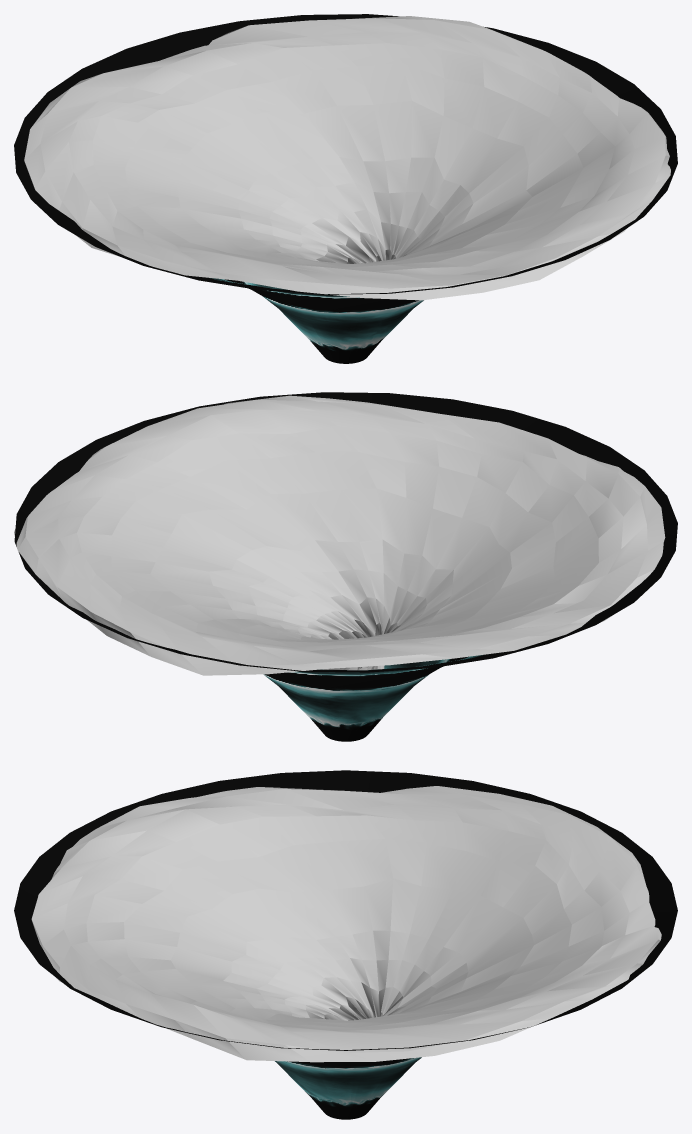
The model's file is fx_xuanwo_water.FBX.
3 views of the same model, one above another, from view 1: azimuth 30°, elevation 25°; view 2: azimuth 150°, elevation 25°; view 3: azimuth 270°, elevation 25° (orthographic).
Parts seen in each view (by area): view 1: fx_xuanwo_water, fx_xuanwo_water1; view 2: fx_xuanwo_water, fx_xuanwo_water1; view 3: fx_xuanwo_water, fx_xuanwo_water1.
Boxes of the visible parts, x1,y1,x2,y2 form: fx_xuanwo_water: (24, 16, 670, 300); fx_xuanwo_water1: (14, 14, 677, 363); fx_xuanwo_water: (14, 395, 665, 675); fx_xuanwo_water1: (14, 392, 677, 741); fx_xuanwo_water: (31, 786, 661, 1062); fx_xuanwo_water1: (14, 770, 677, 1119).
Size of the model in its own units: 37.86 by 13.15 by 37.86.
